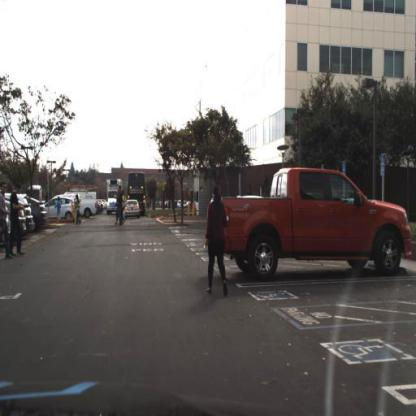car: (207, 165, 413, 286), (45, 192, 77, 223), (30, 187, 48, 233), (126, 200, 142, 221), (125, 200, 141, 220)
pedestrian: (205, 182, 230, 302), (9, 181, 24, 257), (1, 182, 13, 262), (74, 193, 85, 228), (55, 195, 64, 227), (116, 184, 123, 224), (73, 194, 81, 225), (119, 188, 125, 228), (122, 187, 128, 223), (77, 198, 82, 227)
truck: (127, 172, 148, 218), (105, 177, 126, 219), (127, 172, 149, 210), (76, 184, 98, 220), (106, 178, 124, 218)
